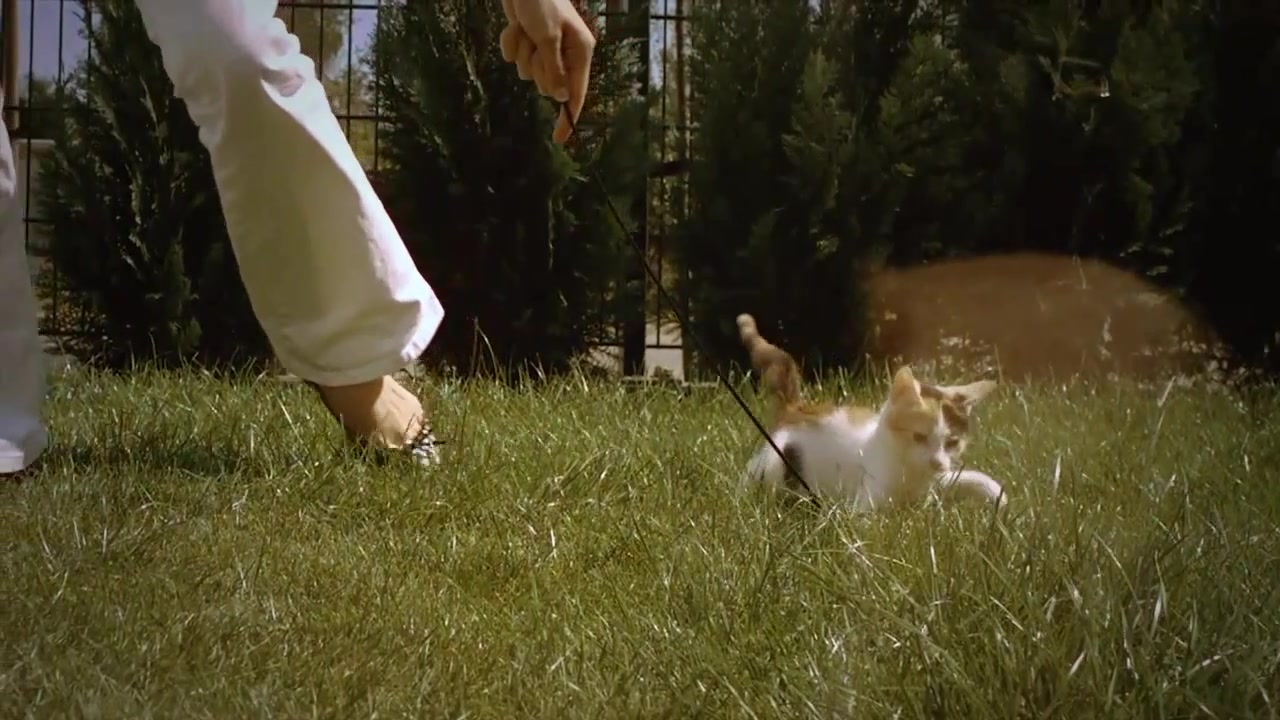cat: (730, 317, 1014, 518)
